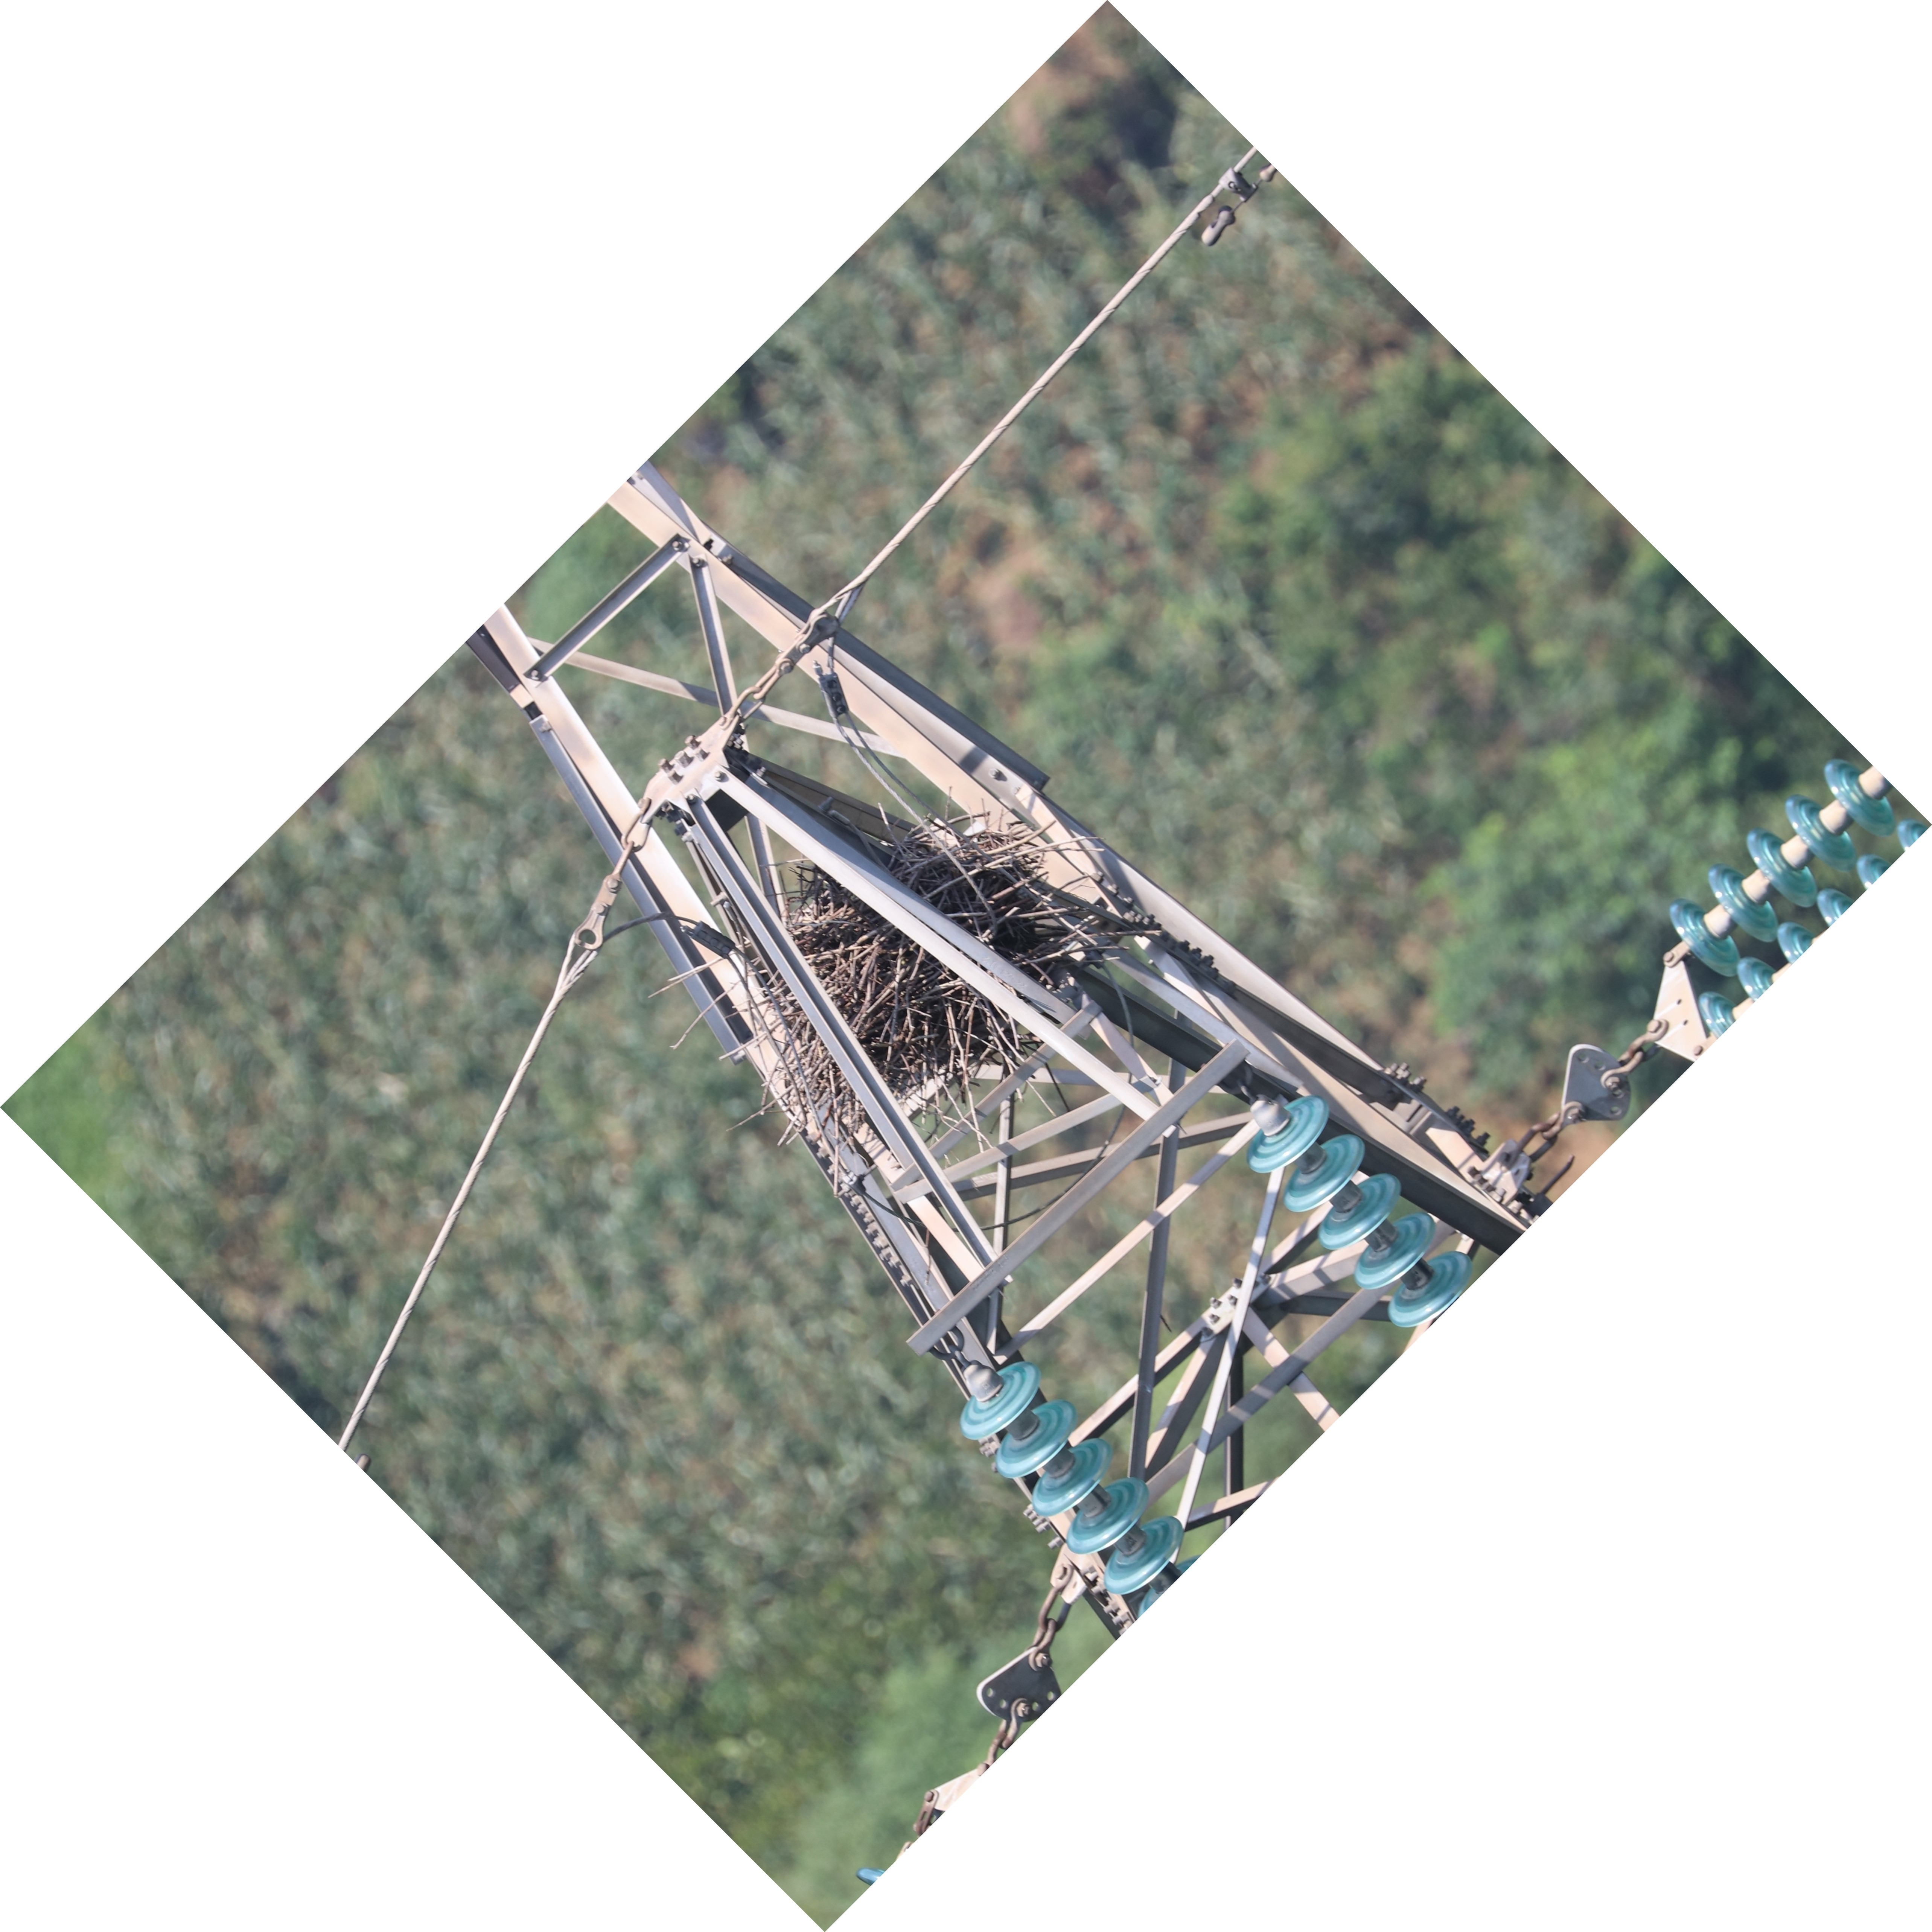niaowo: (727, 793, 1077, 1131)
